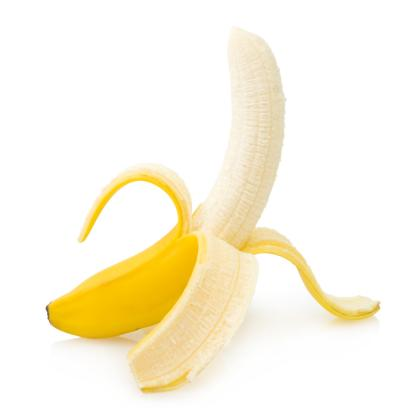banana: (43, 28, 291, 358)
